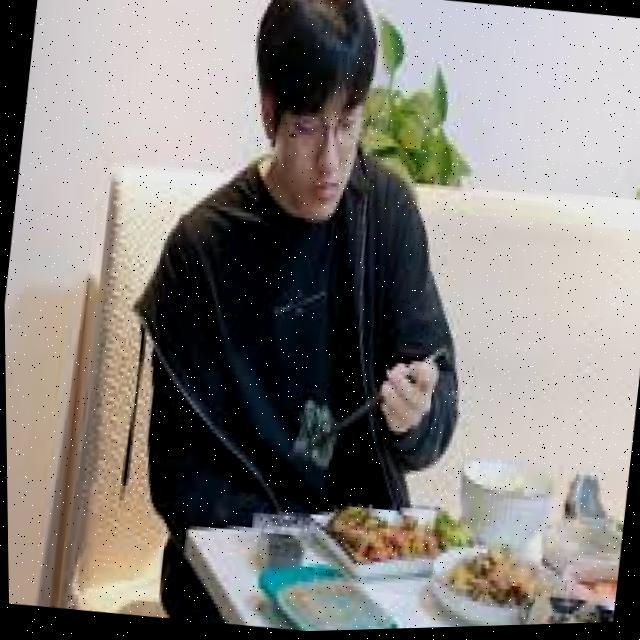eating-person: (107, 0, 515, 638)
